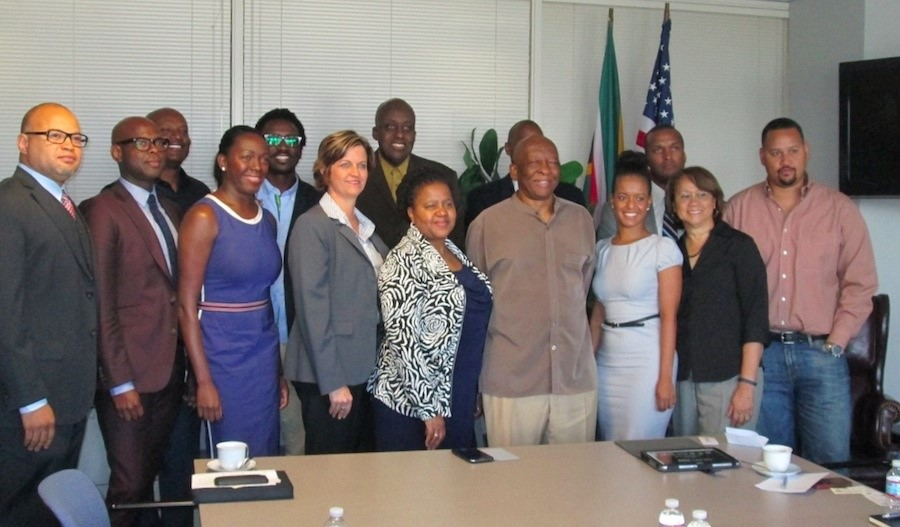face_no_mask: (19, 99, 89, 187), (397, 164, 458, 240), (213, 123, 270, 197), (758, 116, 808, 188), (315, 130, 368, 197), (669, 165, 725, 226), (512, 133, 559, 196), (610, 162, 653, 226), (374, 97, 415, 162), (149, 107, 191, 168), (646, 123, 687, 180)
